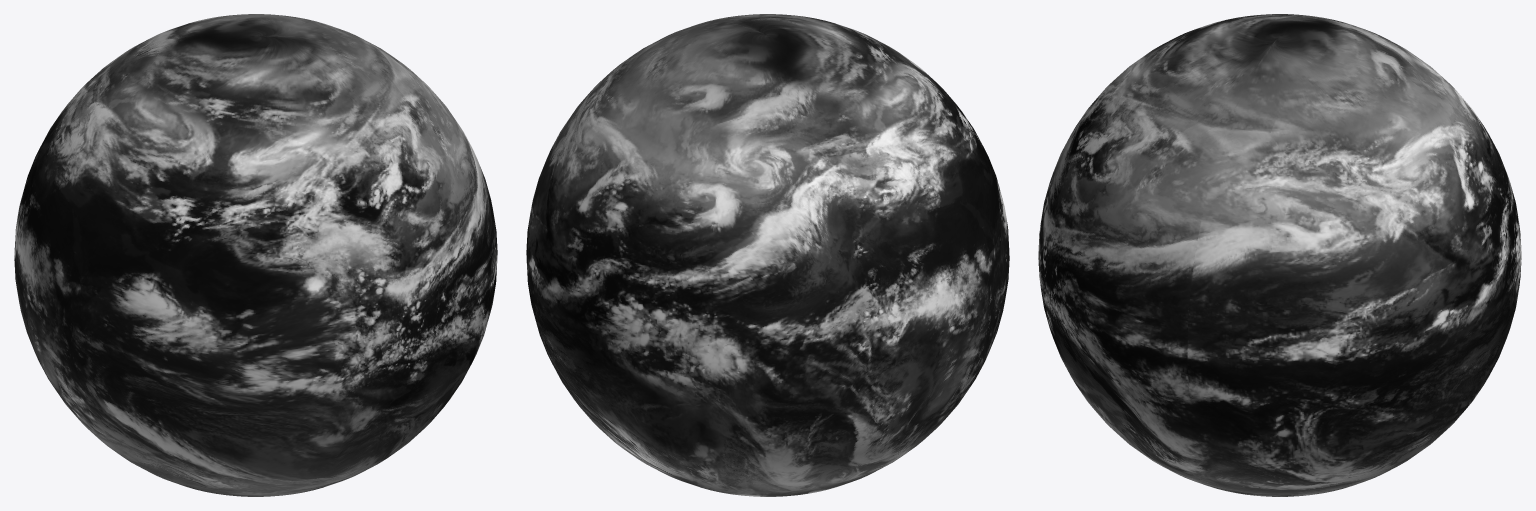
The model's file is earth_5.obj.
3 renders of one model, left to right at view 1: azimuth 30°, elevation 25°; view 2: azimuth 150°, elevation 25°; view 3: azimuth 270°, elevation 25°, orthographic.
Visible parts, largest first — view 1: ATM_0_ATM; view 2: ATM_0_ATM; view 3: ATM_0_ATM.
Part boxes in pixels (x1,y1,x2,y2): ATM_0_ATM: (14, 14, 497, 496); ATM_0_ATM: (526, 14, 1009, 496); ATM_0_ATM: (1038, 14, 1521, 496).
Bounding box in the file's own units: 2.01 × 2.01 × 2.01.
Materials: 2 (2 with a texture image).
